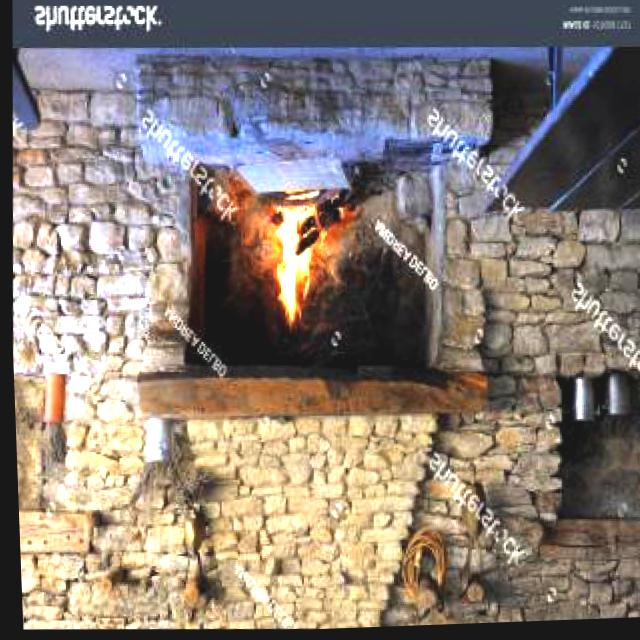Fire: (263, 189, 334, 337)
